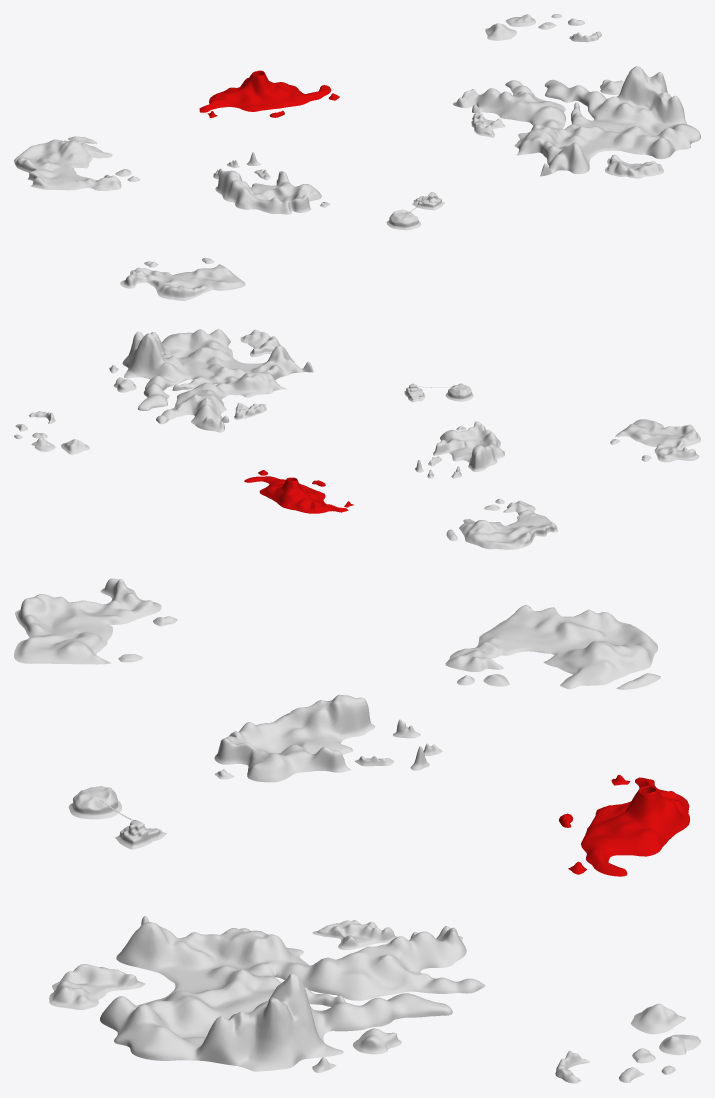
The model's file is Islands.fbx.
3 renders of one model, top to bottom at view 1: azimuth 30°, elevation 25°; view 2: azimuth 150°, elevation 25°; view 3: azimuth 270°, elevation 25°, orthographic. The views are drawn at different scales.
Visible parts, largest first — view 1: pPlane37, pPlane1, pPlane19, pPlane14, pPlane36, pPlane10, pPlane5; view 2: pPlane37, pPlane1, pPlane19, pPlane36, pPlane14, pPlane10, pPlane5; view 3: pPlane37, pPlane1, pPlane19, pPlane36, pPlane14, pPlane10, pPlane5.
Part boxes in pixels (x1=…): pPlane37: x1=453, y1=66, x2=700, y2=178; pPlane1: x1=14, y1=136, x2=139, y2=190; pPlane19: x1=213, y1=152, x2=329, y2=214; pPlane14: x1=199, y1=70, x2=339, y2=117; pPlane36: x1=120, y1=258, x2=245, y2=300; pPlane10: x1=485, y1=14, x2=601, y2=42; pPlane5: x1=386, y1=192, x2=444, y2=230; pPlane37: x1=109, y1=329, x2=313, y2=432; pPlane1: x1=446, y1=498, x2=557, y2=549; pPlane19: x1=415, y1=421, x2=504, y2=478; pPlane36: x1=610, y1=419, x2=700, y2=462; pPlane14: x1=244, y1=470, x2=353, y2=513; pPlane10: x1=14, y1=411, x2=89, y2=454; pPlane5: x1=404, y1=383, x2=473, y2=402; pPlane37: x1=49, y1=916, x2=485, y2=1073; pPlane1: x1=445, y1=605, x2=660, y2=689; pPlane19: x1=214, y1=694, x2=442, y2=782; pPlane36: x1=14, y1=578, x2=177, y2=664; pPlane14: x1=559, y1=775, x2=689, y2=876; pPlane10: x1=555, y1=1003, x2=700, y2=1083; pPlane5: x1=68, y1=786, x2=166, y2=849.
Size of the model in its own units: 744 by 51.28 by 435.
